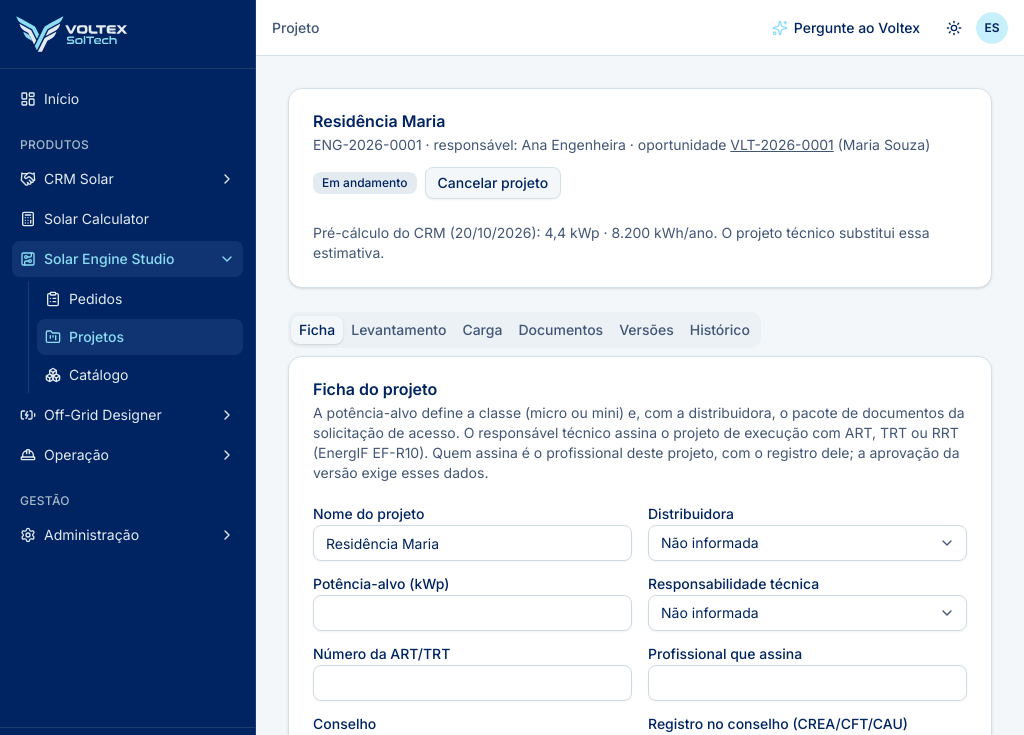
Test: Engine: projetos › a página do projeto mostra o pré-cálculo do CRM, as versões e cria nova versão a partir da enviada
The width and height of the screenshot is (1024, 735).
Check: the text "Pré-cálculo do CRM" is shown, box 313,224 -> 455,241
Check: the text "4,4 kWp · 8.200 kWh/ano" is shown, box 289,223 -> 991,263
Click the tab "Versões".
click(646, 330)  # box 611,316 -> 682,344
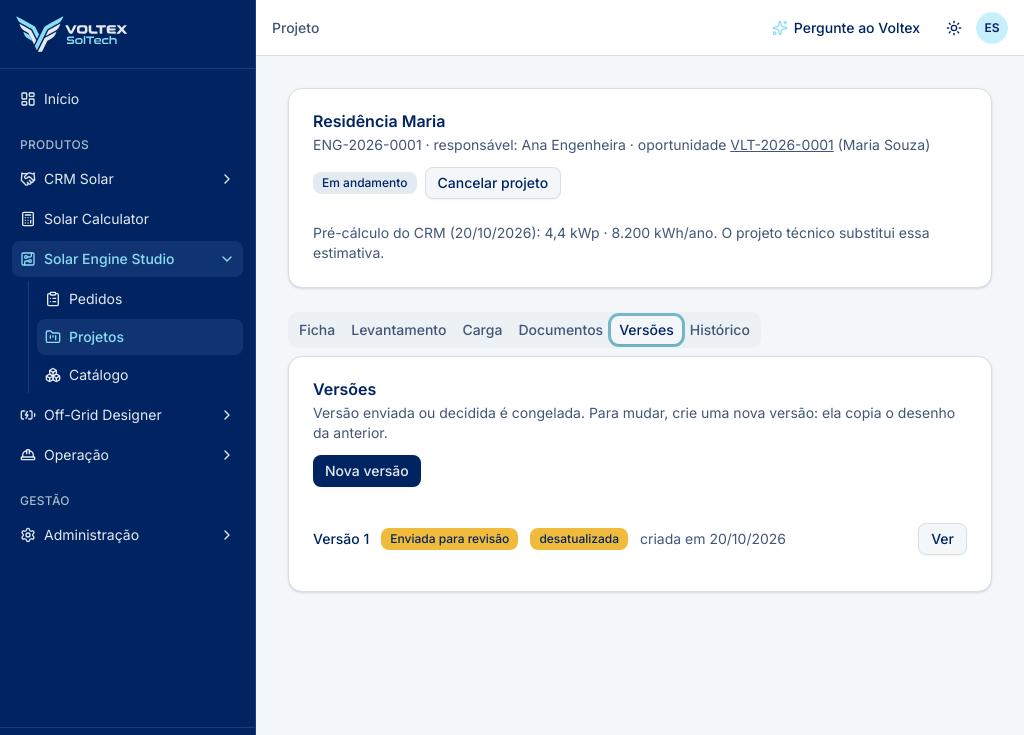
Check: the text "Enviada para revisão" is shown, box 381,528 -> 518,550
Check: the text "desatualizada" is shown, box 530,528 -> 628,550
Click the button "Nova versão".
click(367, 471)  # box 313,455 -> 421,487
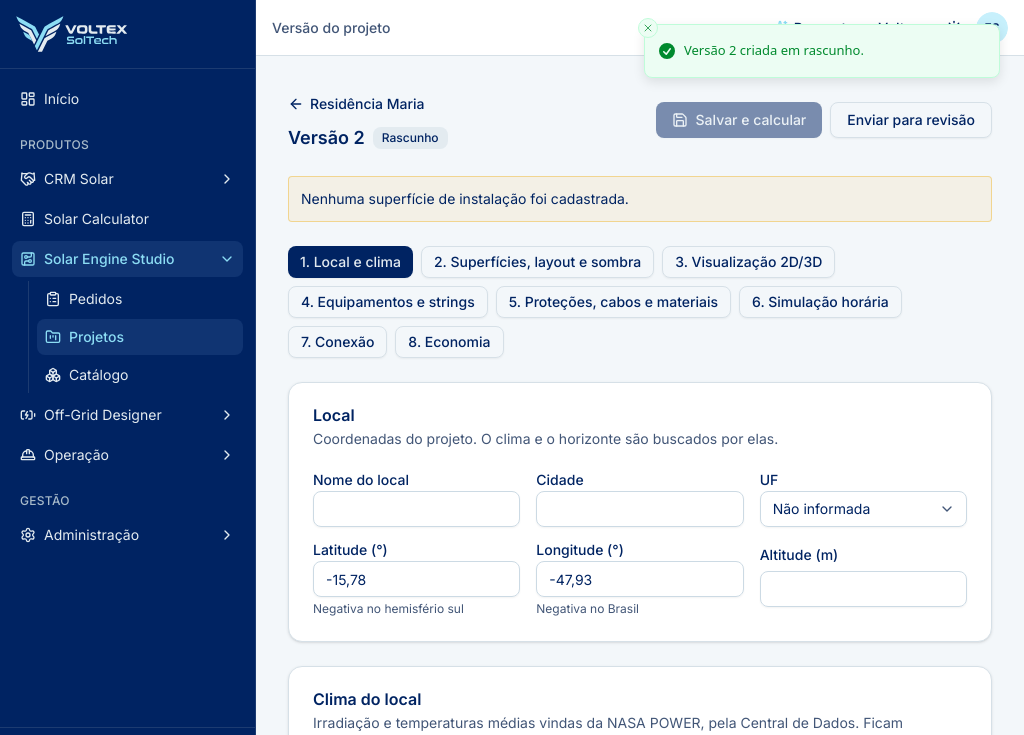
Check: the heading "Versão 2 Rascunho" is shown, box 288,124 -> 448,152
